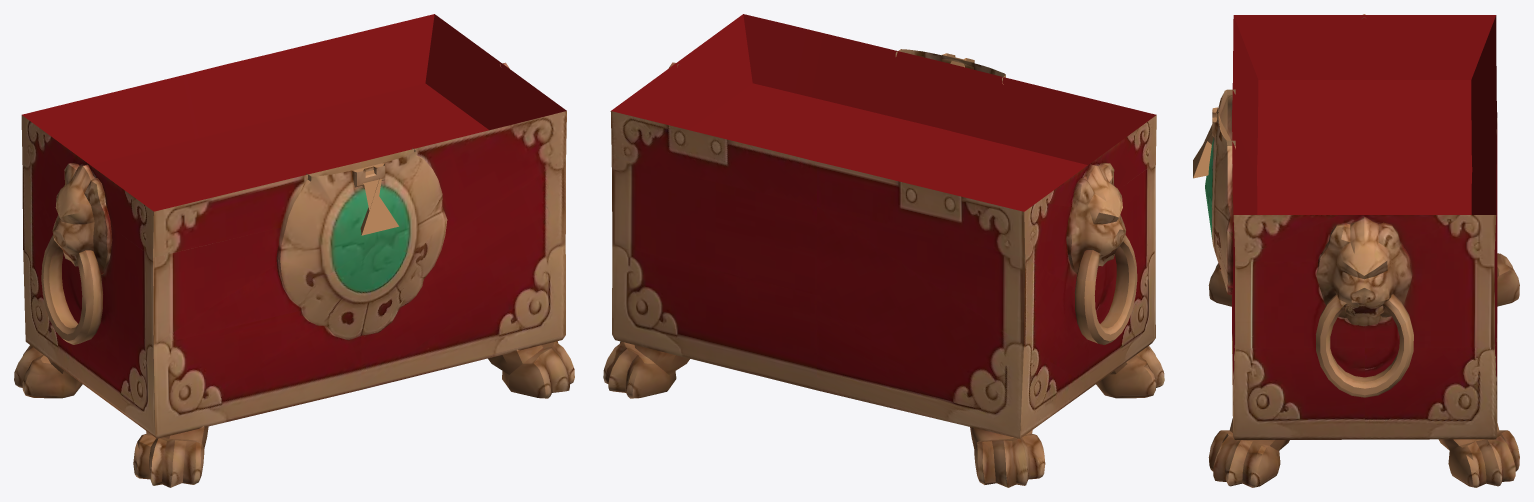
File: SM_Prop_ChestRareBody.glb
The picture shows the model from 3 angles, left to right: view 1: azimuth 30°, elevation 25°; view 2: azimuth 150°, elevation 25°; view 3: azimuth 270°, elevation 25°; orthographic projection.
Visible parts, largest first — view 1: SM_Prop_ChestRareBody_LOD0; view 2: SM_Prop_ChestRareBody_LOD0; view 3: SM_Prop_ChestRareBody_LOD0.
Boxes of the visible parts, bbox=[...] form: SM_Prop_ChestRareBody_LOD0: bbox=[14, 14, 574, 487]; SM_Prop_ChestRareBody_LOD0: bbox=[603, 14, 1164, 487]; SM_Prop_ChestRareBody_LOD0: bbox=[1193, 14, 1519, 487].
Bounding box in the file's own units: 1.08 × 0.6 × 0.6535.
Materials: 1 (1 with a texture image).
